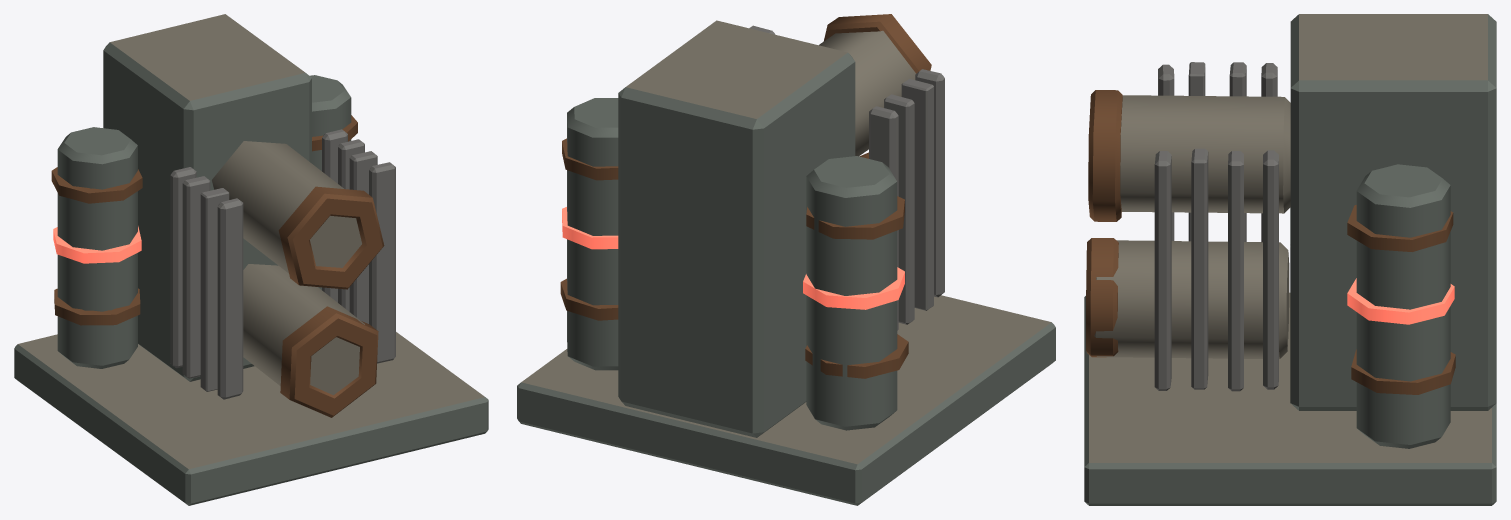
Rendered from R4X_DoubleShotOverdrive_LOD1.fbx.
The picture shows the model from 3 angles, left to right: view 1: azimuth 30°, elevation 25°; view 2: azimuth 150°, elevation 25°; view 3: azimuth 270°, elevation 25°; orthographic projection. The views are drawn at different scales.
Parts seen in each view (by area): view 1: R4X_DoubleShotOverdrive_LOD1; view 2: R4X_DoubleShotOverdrive_LOD1; view 3: R4X_DoubleShotOverdrive_LOD1.
Boxes of the visible parts, <box> form: R4X_DoubleShotOverdrive_LOD1: <box>14,14,488,505</box>; R4X_DoubleShotOverdrive_LOD1: <box>517,14,1055,505</box>; R4X_DoubleShotOverdrive_LOD1: <box>1084,14,1496,505</box>.
Bounding box in the file's own units: 0.52 × 0.52 × 0.52.
